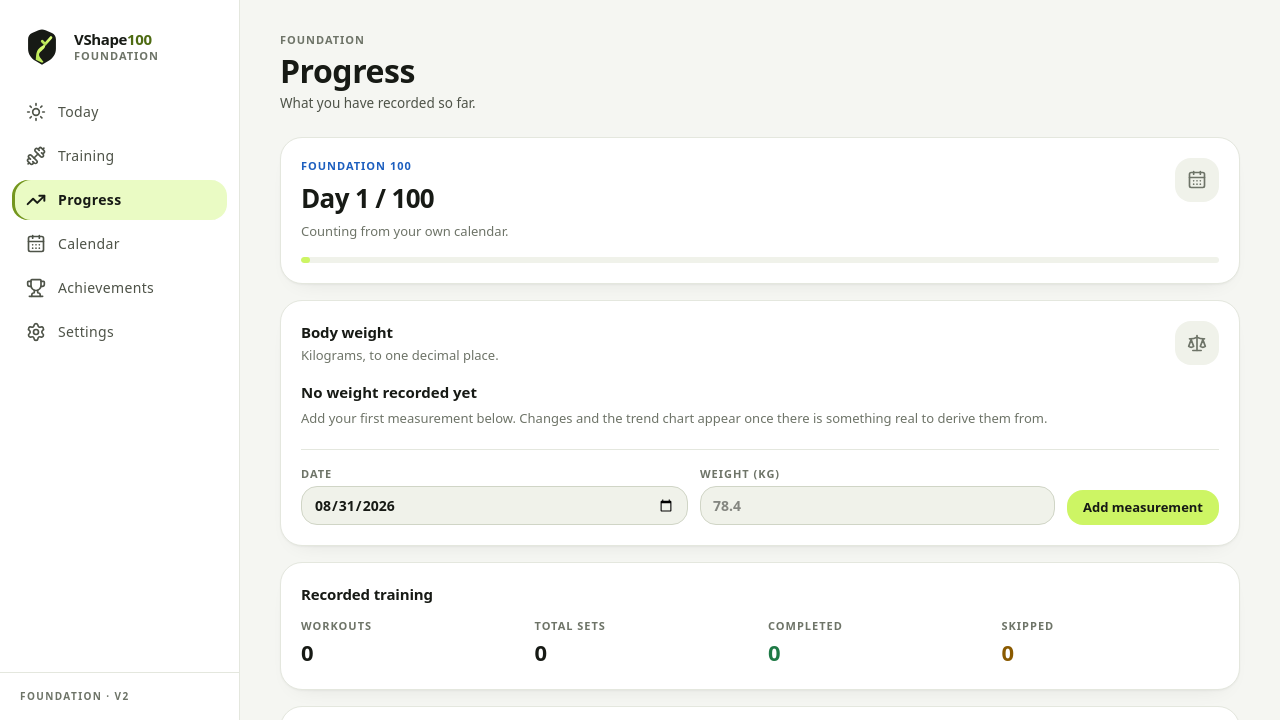
Test: D. a date the person picked themselves › survives midnight untouched
The width and height of the screenshot is (1280, 720).
Check: the heading "Progress" is shown, box [280, 48, 415, 92]
# Backfilling an earlier day, at 23:59.
Step 1. Type "2026-08-20" into the date field labelled "Date" → coordinates (494, 506), box [301, 486, 688, 525]
Wait 89850 ms
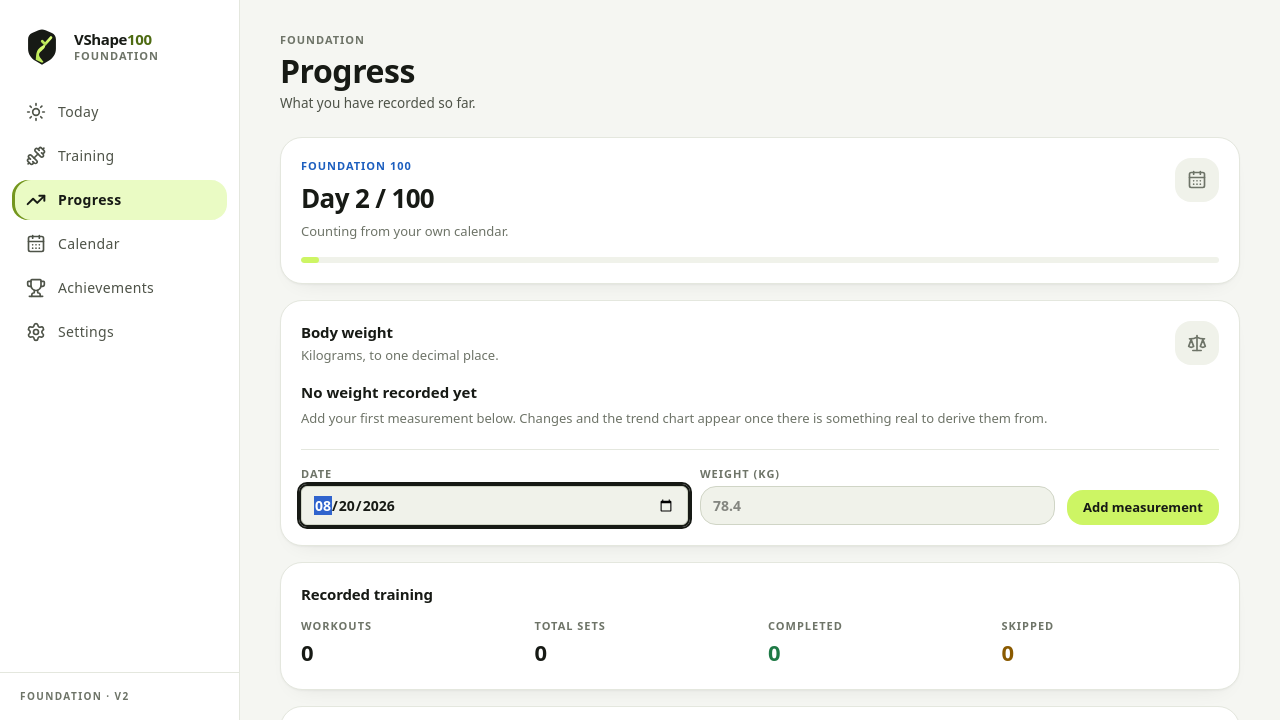
Check: the date field labelled "Date" has attribute max="2026-09-01", box [301, 486, 688, 525]
